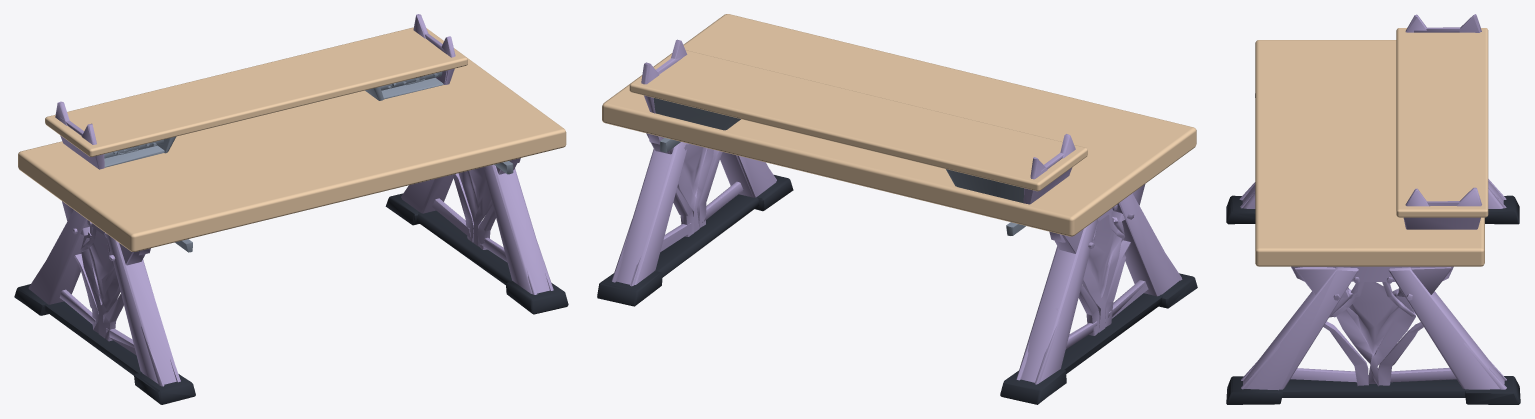
The model's file is gaming_desk.glb.
The picture shows the model from 3 angles, left to right: view 1: azimuth 30°, elevation 25°; view 2: azimuth 150°, elevation 25°; view 3: azimuth 270°, elevation 25°; orthographic projection. The views are drawn at different scales.
Bounding box in the file's own units: 3.4 × 1.54 × 2.01.
